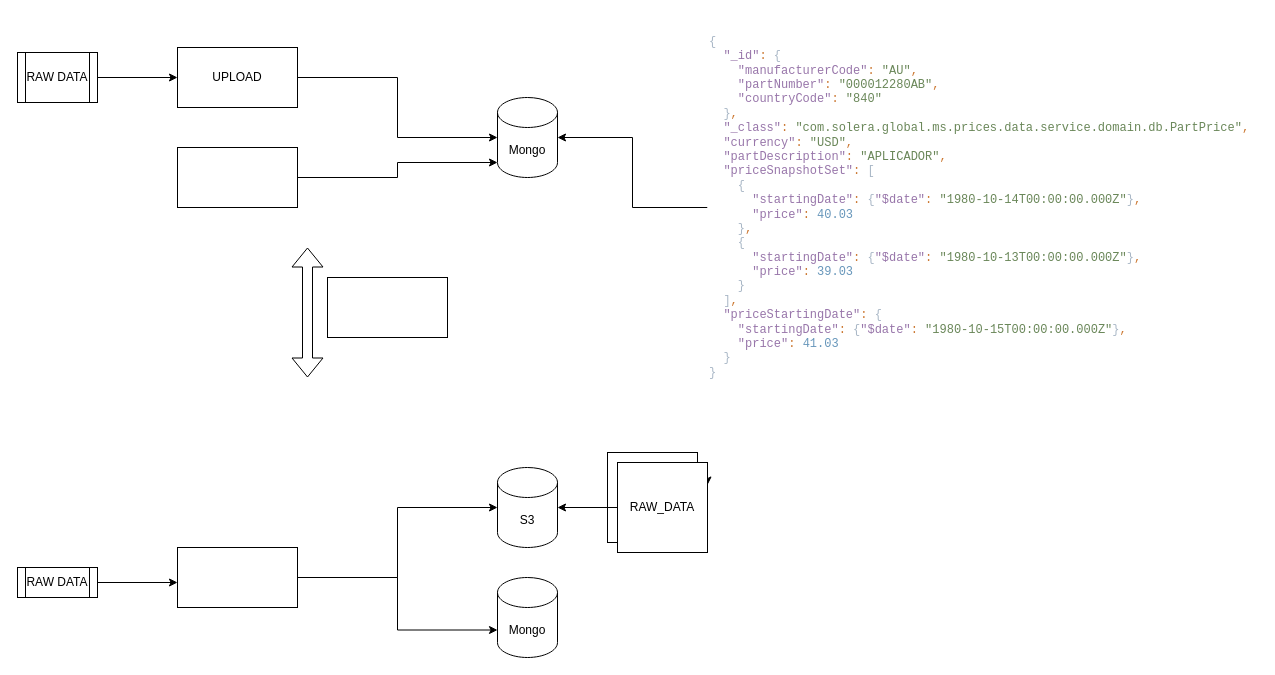
This 1275x675 diagram has some shape labels left out. Each missing label, with the centre of its shape:
"QUERY" belongs at point 237,177.
"Rabbit MQ" belongs at point 387,307.
"UPLOAD METADATA" belongs at point 237,577.
